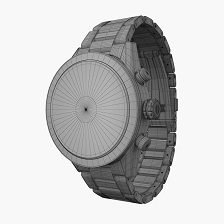Watch: (34, 5, 194, 217)
